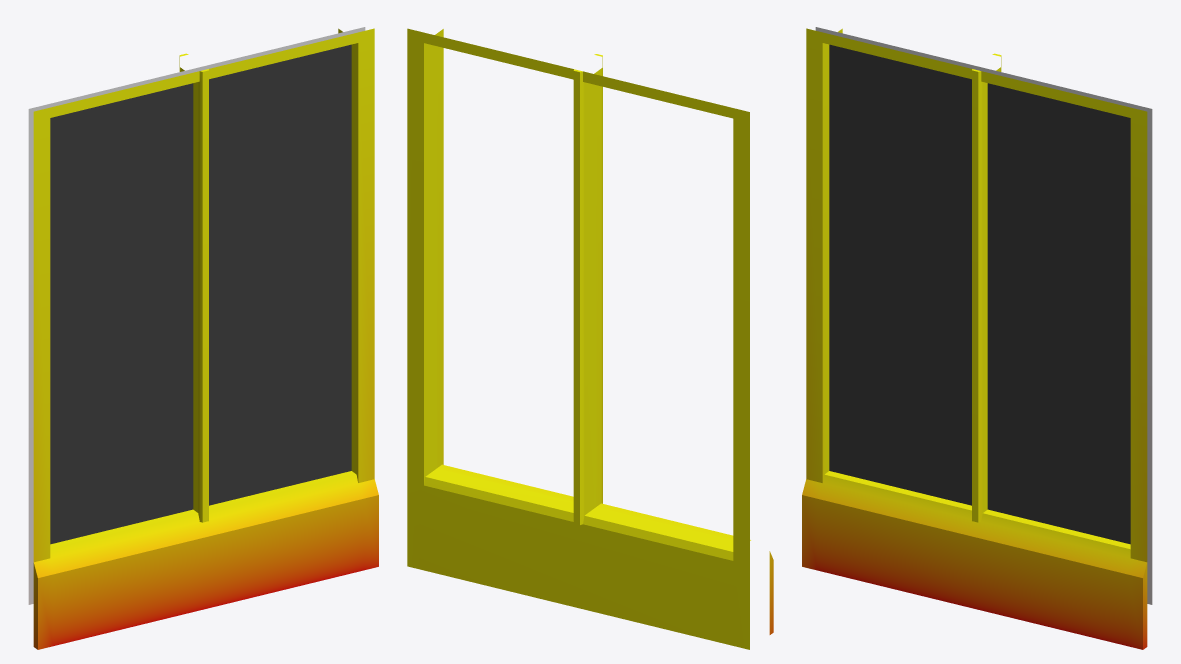
The model's file is metal-firstfloor-window.glb.
3 views of the same model, side by side, from view 1: azimuth 30°, elevation 25°; view 2: azimuth 150°, elevation 25°; view 3: azimuth 330°, elevation 25° (orthographic).
Visible parts, largest first — view 1: Metal_FirstFloor_Window; view 2: Metal_FirstFloor_Window; view 3: Metal_FirstFloor_Window.
Part boxes in pixels (x1,y1,x2,y2): Metal_FirstFloor_Window: (28, 27, 378, 649); Metal_FirstFloor_Window: (407, 28, 773, 649); Metal_FirstFloor_Window: (802, 27, 1152, 649).
Size of the model in its own units: 2 by 3 by 0.2588.
5 materials, 3 textured.
